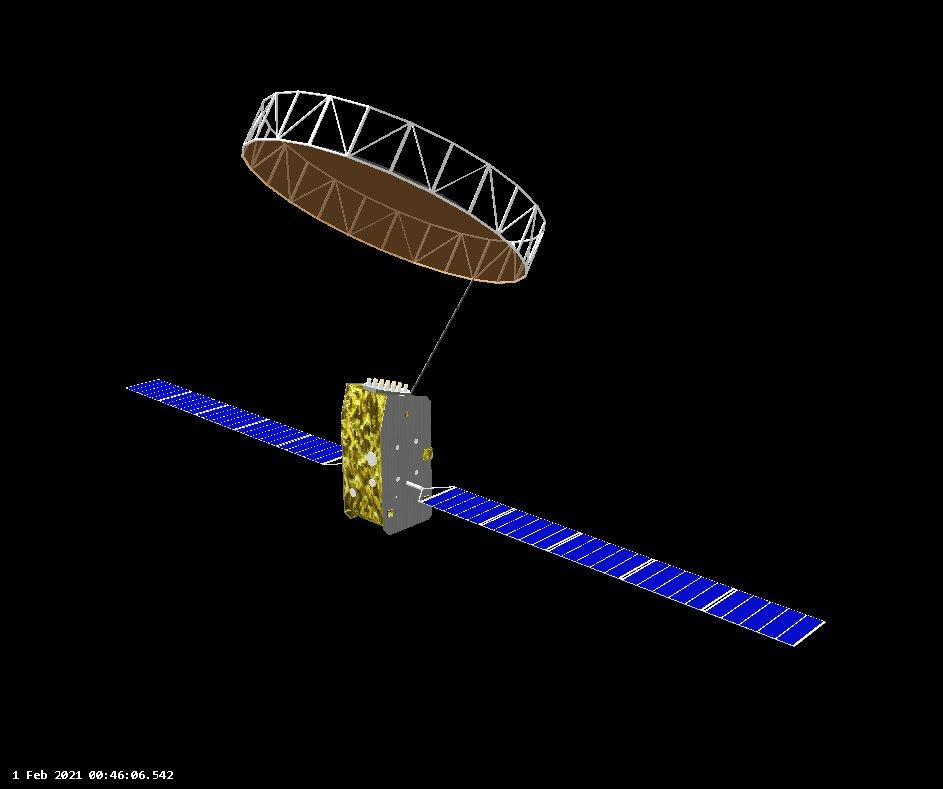antenna: (239, 134, 529, 286), (366, 451, 377, 466), (349, 487, 357, 498), (369, 479, 377, 487), (413, 438, 419, 445), (395, 476, 401, 483), (395, 444, 400, 451), (414, 469, 419, 476), (394, 494, 399, 499)
body: (337, 374, 435, 538)
solar: (416, 477, 830, 651), (124, 374, 350, 468)
